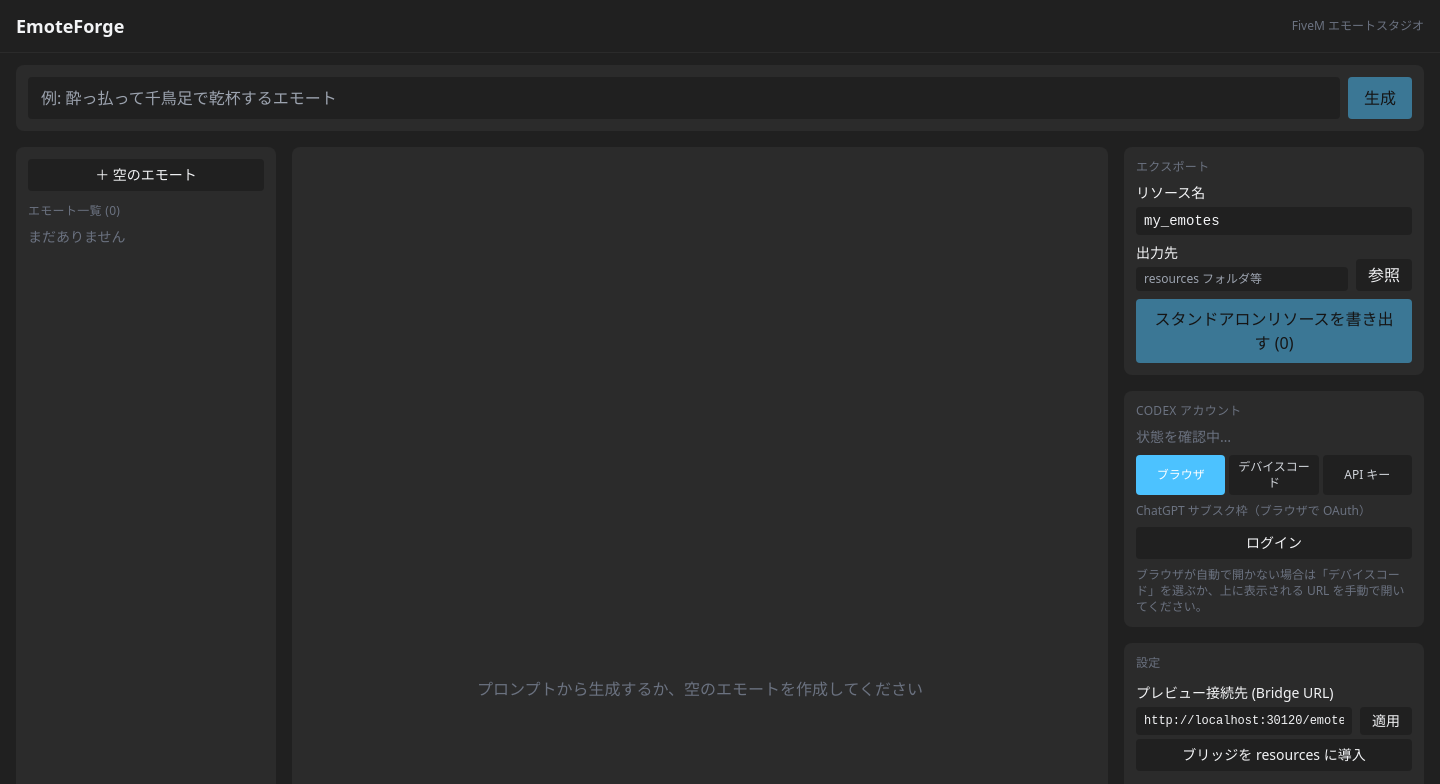
Test: App › surfaces generation errors
Type "x" into the field named "prompt" at {"x": 684, "y": 98}, box [28,77,1340,119]
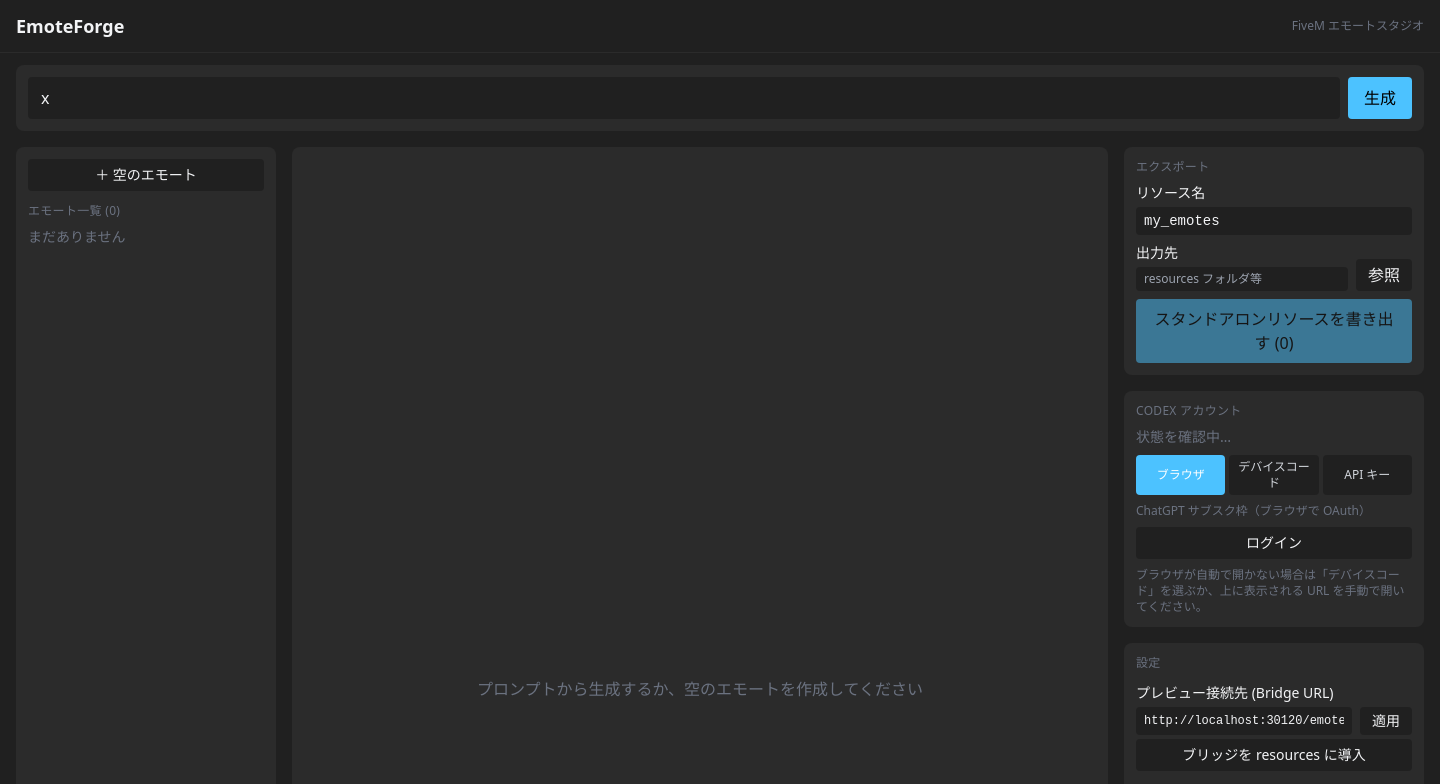
Click the button "生成" at {"x": 1380, "y": 98}, box [1348,77,1412,119]
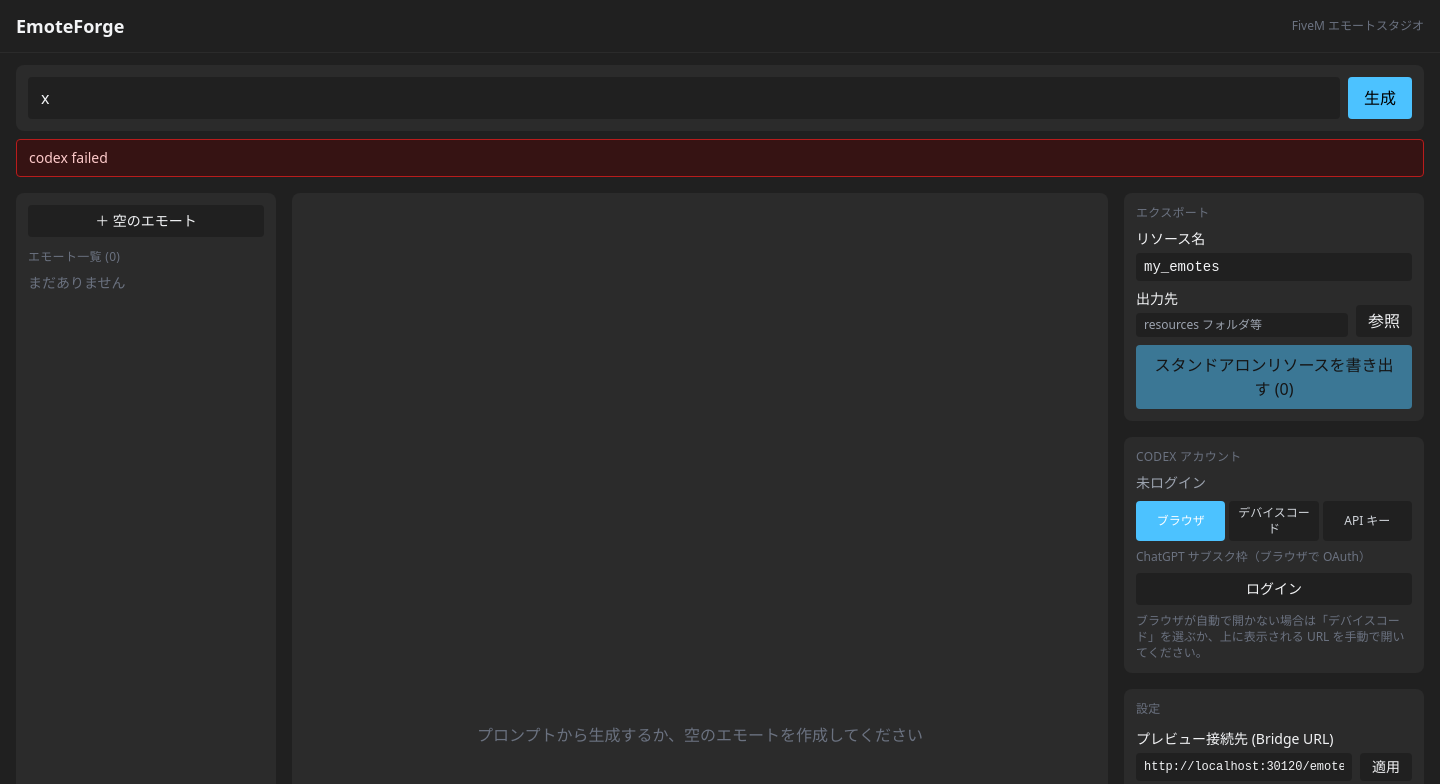
expect the message reads "codex failed": met, box [29,148,108,167]
